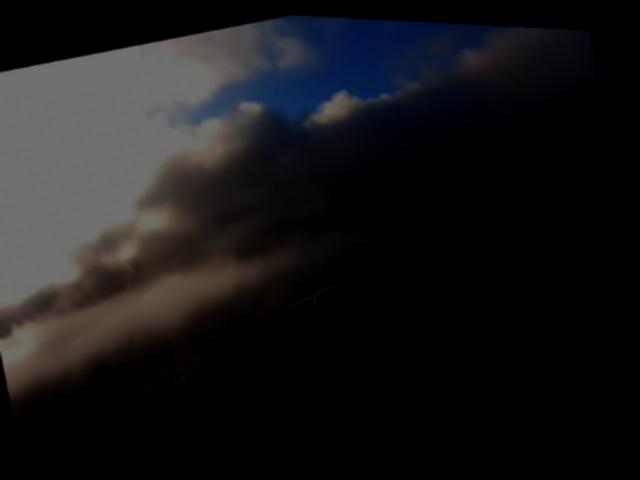uav: (280, 267, 350, 320)
